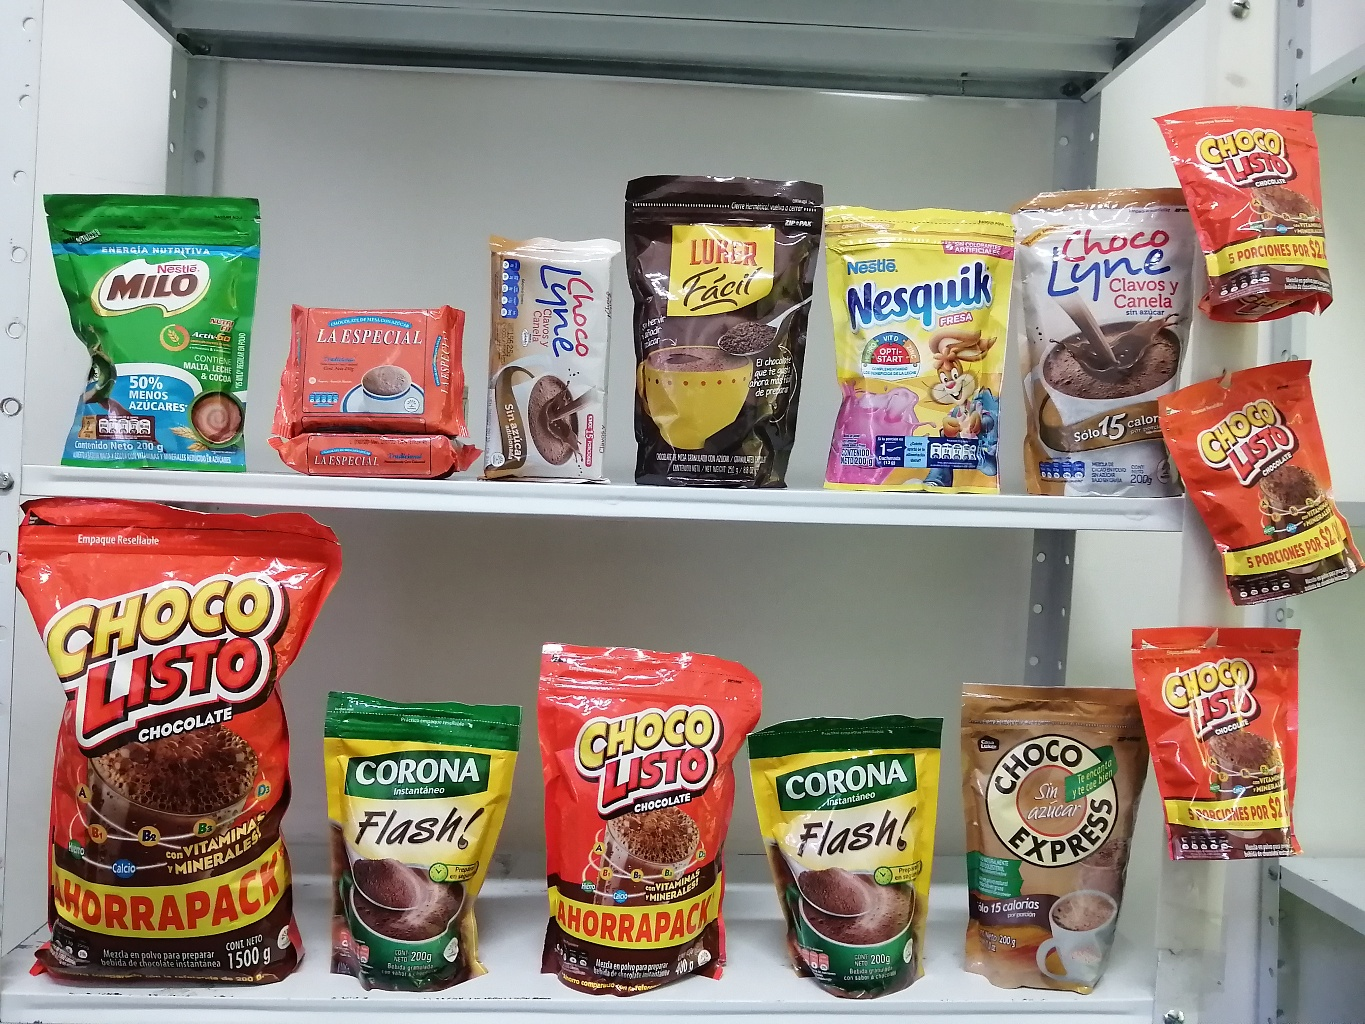COL0170103DYP1,500: (9, 485, 335, 997)
COL0170103DYP10000: (1139, 83, 1343, 327)
COL0170103DYP40000: (525, 620, 771, 1007)
COL0170205DYP20000: (15, 179, 293, 469)
COL0170305DYP20000: (805, 185, 1027, 501)
